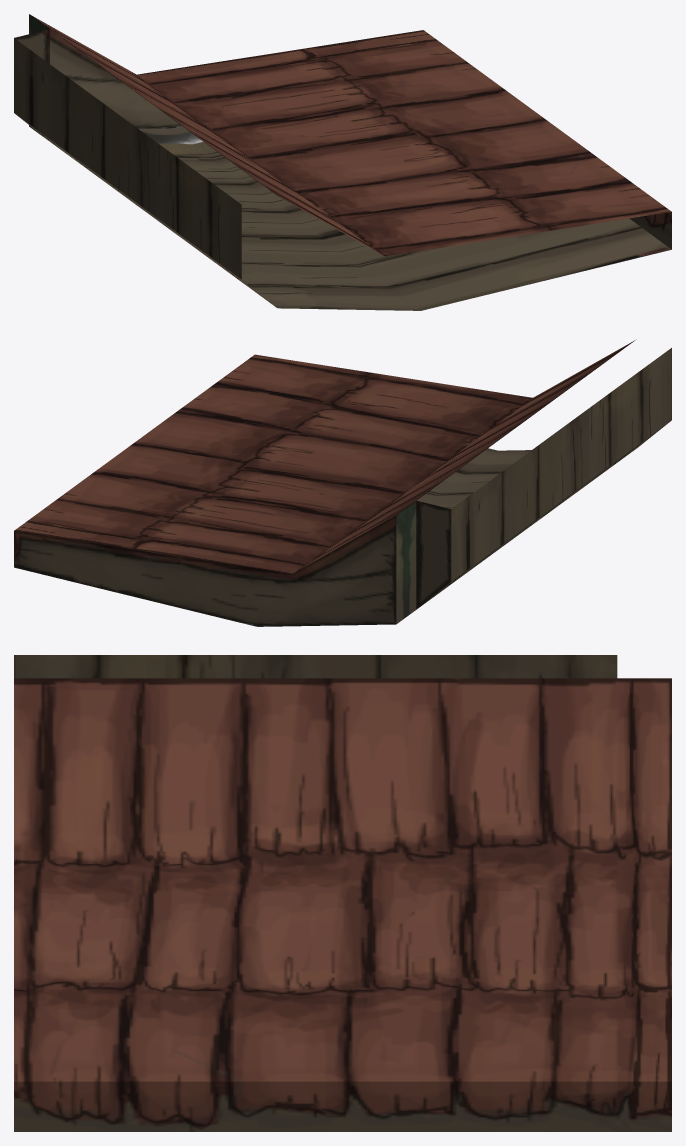
The model's file is ChTile_RoofShortRight.fbx.
3 renders of one model, top to bottom at view 1: azimuth 30°, elevation 25°; view 2: azimuth 150°, elevation 25°; view 3: azimuth 270°, elevation 25°, orthographic. The views are drawn at different scales.
Parts seen in each view (by area): view 1: pCube922; view 2: pCube922; view 3: pCube922.
Part boxes in pixels (bbox=[...]): pCube922: bbox=[14, 14, 671, 310]; pCube922: bbox=[14, 339, 671, 626]; pCube922: bbox=[14, 655, 671, 1131].
Size of the model in its own units: 12 by 4 by 12.
